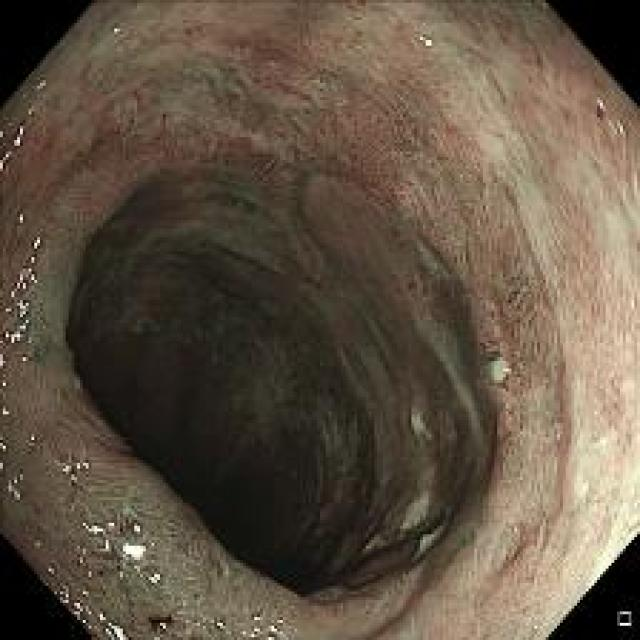contrast: (74, 232, 398, 612)
specularity: (81, 514, 166, 586), (0, 208, 39, 359), (50, 572, 131, 638), (0, 84, 34, 186), (2, 430, 35, 504), (396, 21, 444, 59), (245, 610, 290, 636), (615, 121, 626, 134), (111, 26, 124, 34), (500, 362, 511, 370), (596, 95, 602, 106)
